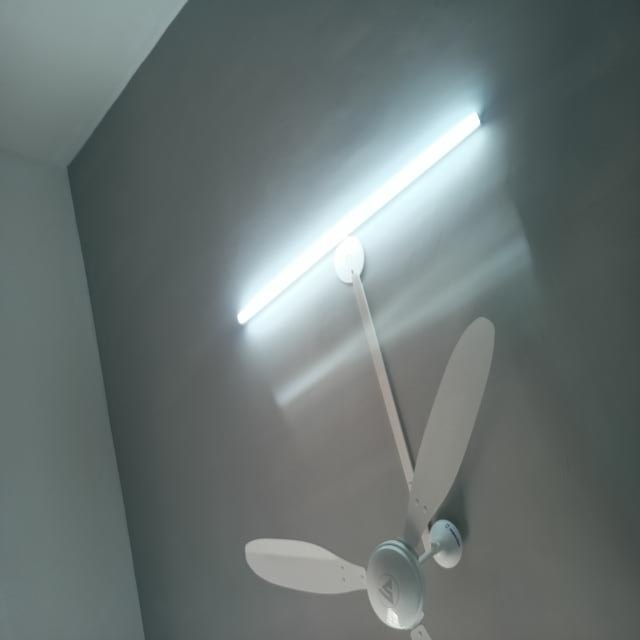fluorescent tube: (230, 95, 488, 333)
